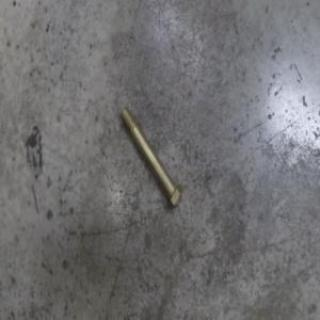Bolttrack_idkeyframe: (118, 103, 183, 209)
